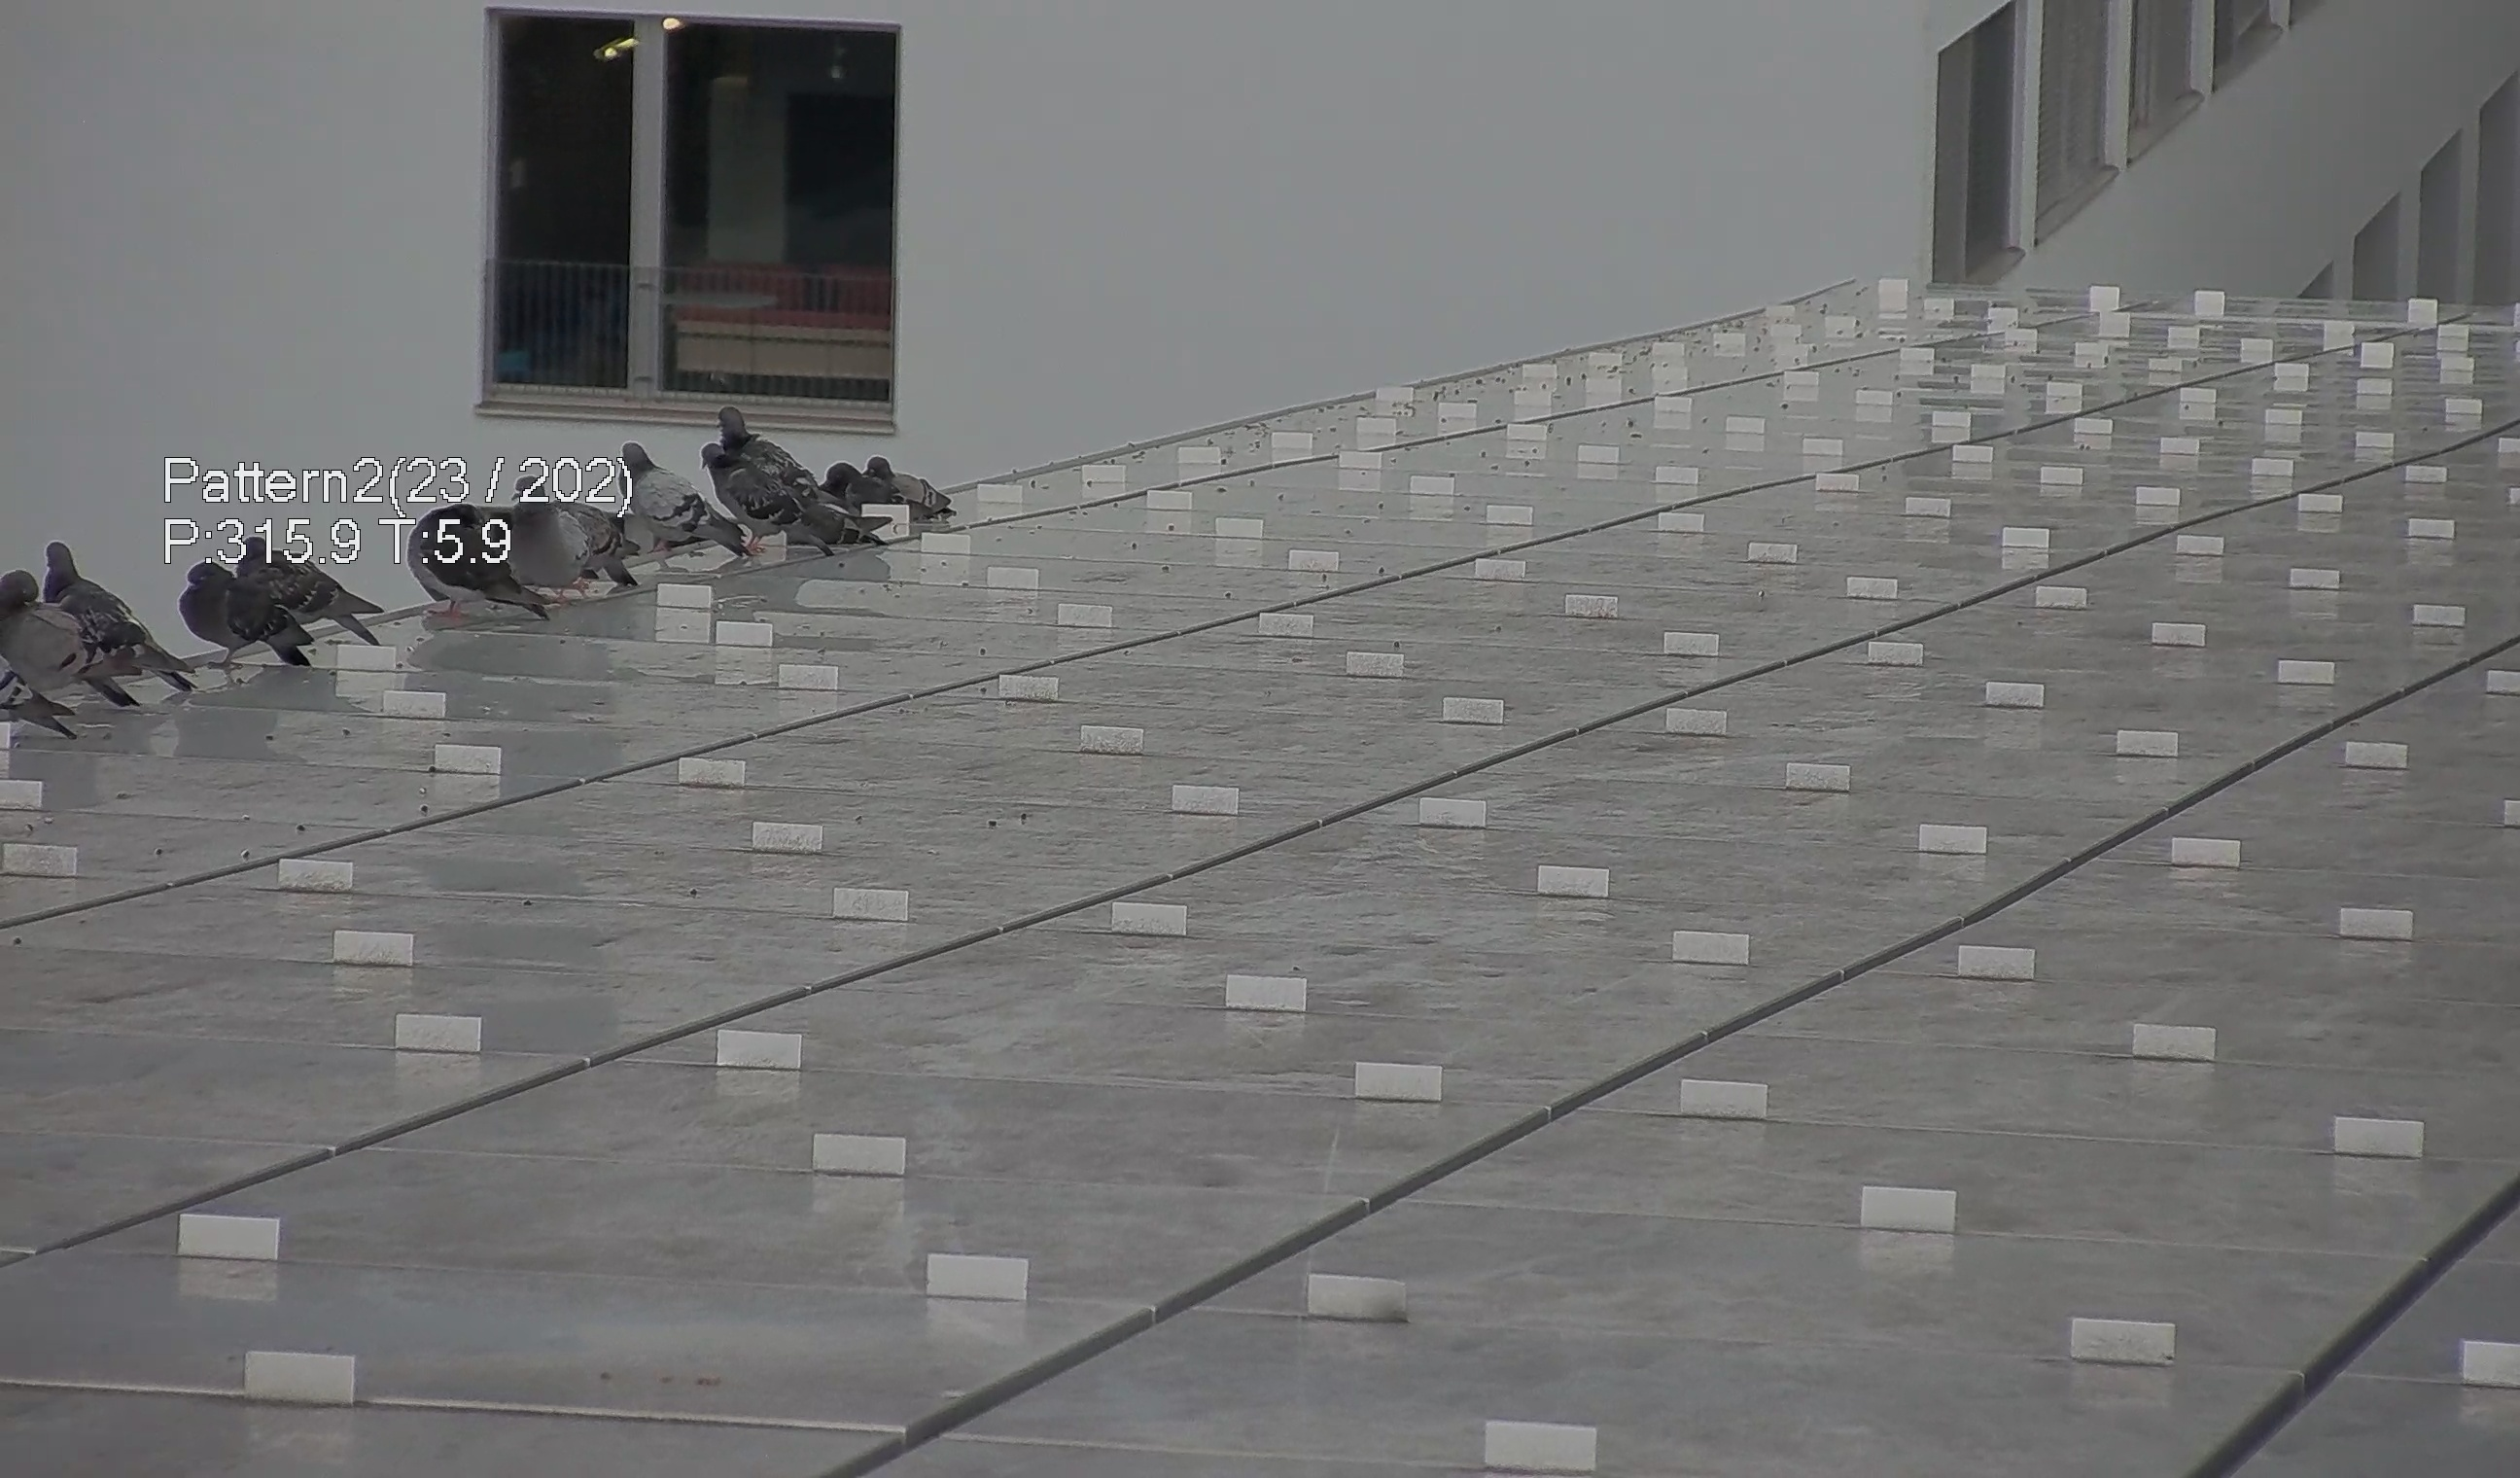Pigeon: (33, 521, 216, 709), (499, 450, 659, 600), (2, 563, 134, 737), (176, 523, 311, 670), (702, 399, 832, 540), (237, 528, 392, 644), (399, 500, 543, 623), (608, 436, 744, 552), (825, 442, 955, 547)
